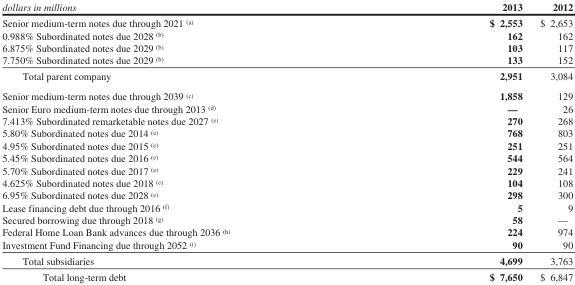table: (1, 0, 572, 282)
table column: (1, 0, 359, 282), (359, 0, 530, 282), (530, 0, 572, 282)
table column header: (1, 0, 572, 14)
table row: (1, 67, 572, 85), (1, 85, 572, 101), (1, 252, 572, 268), (1, 0, 572, 14), (1, 14, 572, 28), (1, 53, 572, 67), (1, 238, 572, 252), (1, 268, 572, 282), (1, 28, 572, 41), (1, 101, 572, 114), (1, 126, 572, 139), (1, 163, 572, 176), (1, 200, 572, 213), (1, 225, 572, 238), (1, 41, 572, 53), (1, 114, 572, 126), (1, 139, 572, 151), (1, 151, 572, 163), (1, 176, 572, 188), (1, 188, 572, 200), (1, 213, 572, 225)
